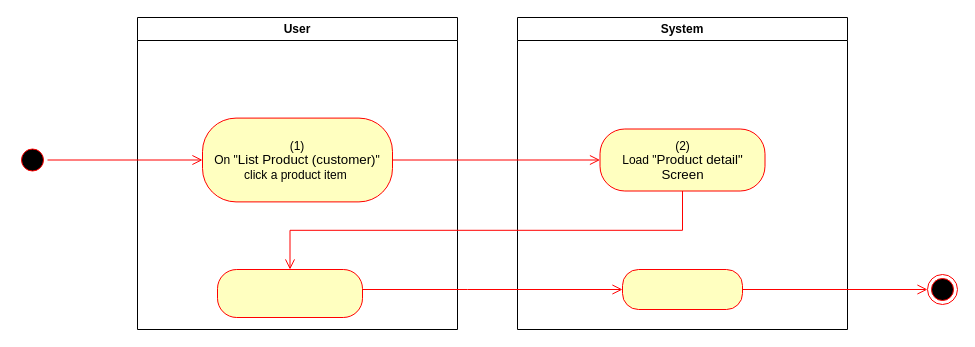
Image size: 975x347. Some labels were removed from this diagram. Each missing label, with the centre of its shape:
(3) Click "đi đến giỏ hàng": (x=289, y=293)
(4) Load "Cart" screen: (x=682, y=289)
